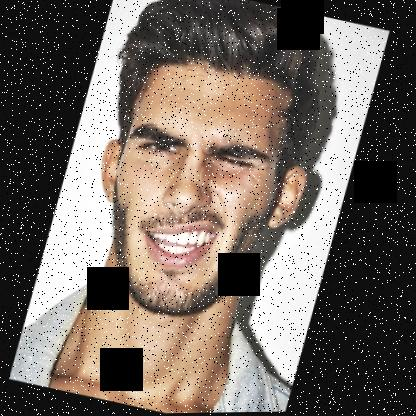Male: (68, 46, 335, 340)
